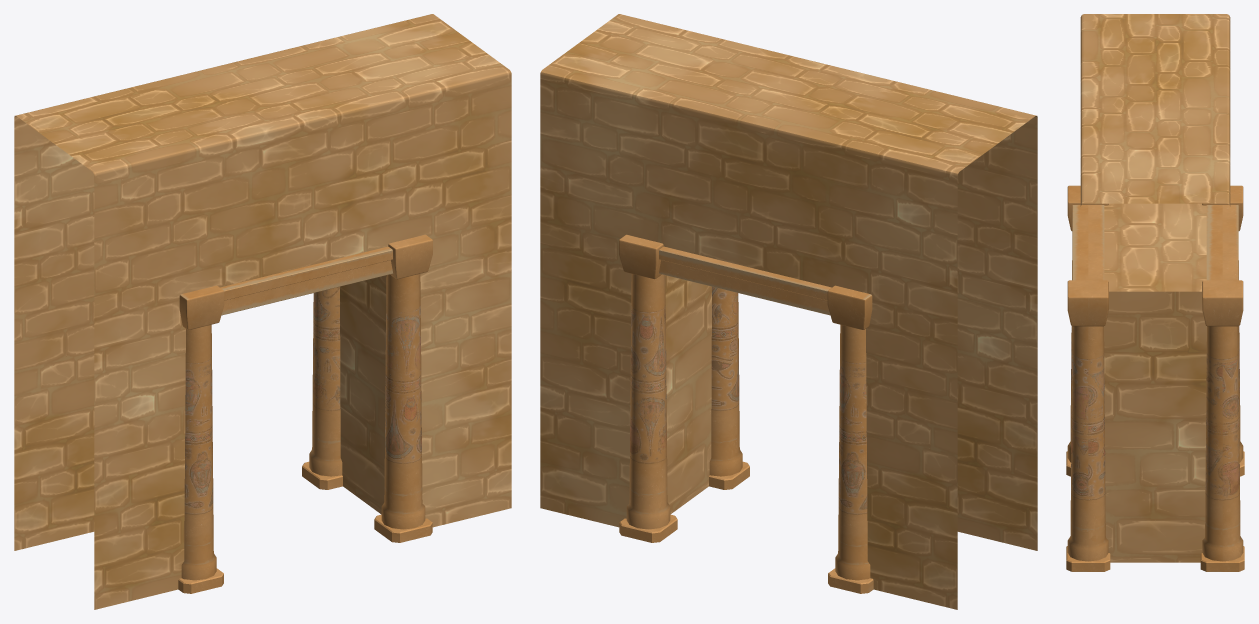
The model's file is SM_Env_Wall_Door_A.fbx.
3 views of the same model, side by side, from view 1: azimuth 30°, elevation 25°; view 2: azimuth 150°, elevation 25°; view 3: azimuth 270°, elevation 25° (orthographic). The views are drawn at different scales.
Parts seen in each view (by area): view 1: Wall_Door_A; view 2: Wall_Door_A; view 3: Wall_Door_A.
Part boxes in pixels (box(x1,y1,x2,y2)): Wall_Door_A: box(14, 14, 511, 609); Wall_Door_A: box(540, 14, 1037, 609); Wall_Door_A: box(1066, 14, 1244, 571).
Size of the model in its own units: 300 by 300 by 119.
Materials: 2 (2 with a texture image).
